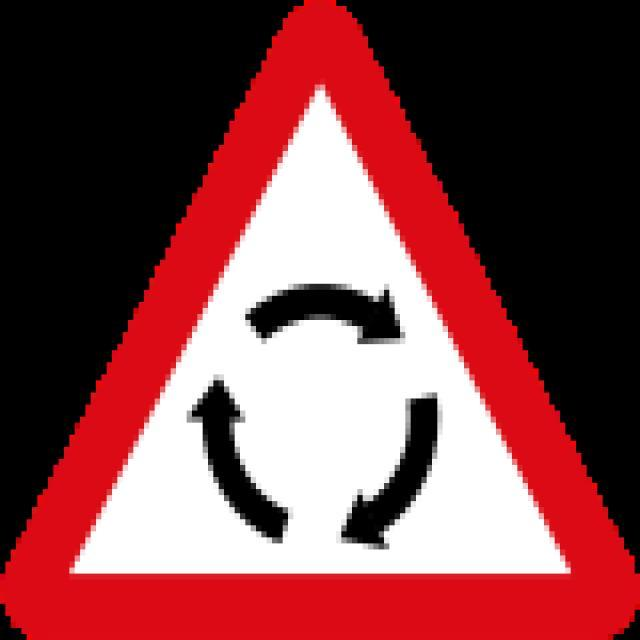Roundabout: (0, 6, 640, 640)
